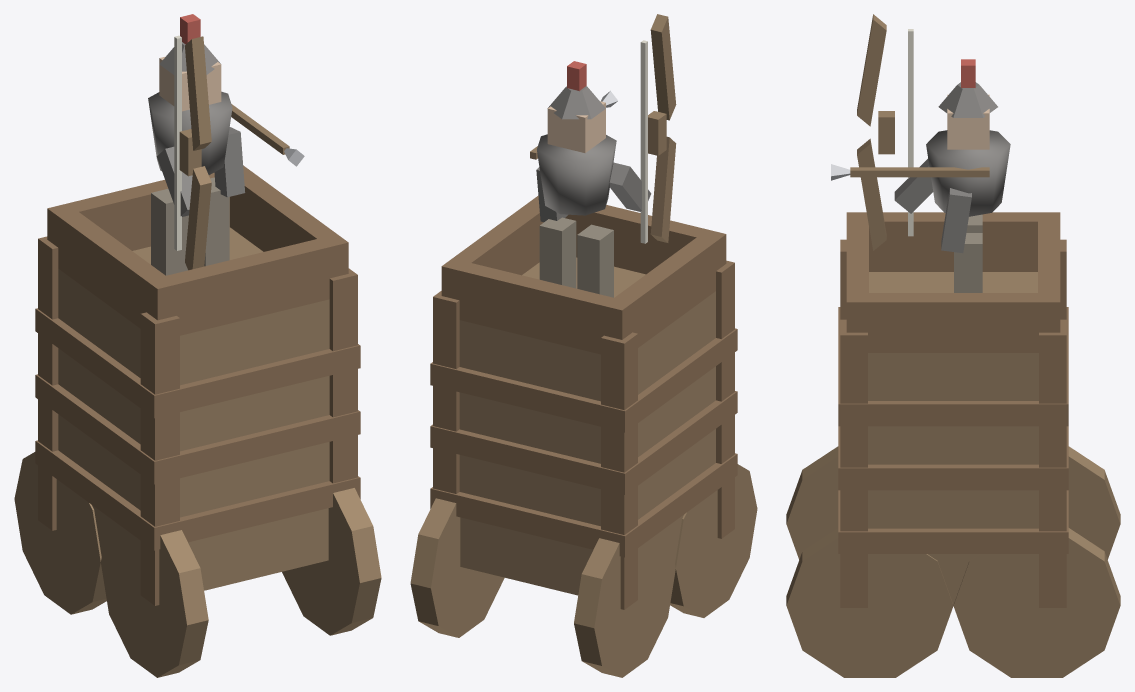
The model's file is troop-siege-tower.glb.
3 views of the same model, side by side, from view 1: azimuth 30°, elevation 25°; view 2: azimuth 150°, elevation 25°; view 3: azimuth 270°, elevation 25° (orthographic). The views are drawn at different scales.
Parts seen in each view (by area): view 1: body, parapet_1, wheel_fl, belt_2, belt_1, wheel_bl, wheel_fr, belt_0, post_-1_-1, parapet_3, parapet_2, post_1_-1 (+14 smaller); view 2: body, parapet_0, wheel_bl, belt_1, belt_2, wheel_fl, wheel_br, belt_0, post_-1_1, parapet_3, tower_archer, parapet_1 (+13 smaller); view 3: body, wheel_br, wheel_fr, parapet_2, parapet_3, belt_2, belt_1, belt_0, post_1_-1, post_1_1, tower_archer, wheel_bl (+15 smaller).
Boxes of the visible parts, x1,y1,x2,y2 form: body: [58, 227, 329, 590]; parapet_1: [146, 239, 348, 335]; wheel_fl: [100, 520, 208, 677]; belt_2: [35, 308, 360, 418]; belt_1: [35, 374, 360, 484]; wheel_bl: [14, 452, 106, 614]; wheel_fr: [282, 488, 381, 635]; belt_0: [35, 440, 360, 550]; post_-1_-1: [140, 312, 179, 605]; parapet_3: [50, 208, 177, 328]; parapet_2: [230, 166, 348, 274]; post_1_-1: [329, 268, 357, 483]; body: [459, 257, 715, 595]; parapet_0: [442, 262, 632, 354]; wheel_bl: [574, 529, 675, 677]; belt_1: [430, 391, 737, 494]; belt_2: [430, 328, 737, 432]; wheel_fl: [670, 464, 757, 617]; wheel_br: [410, 498, 504, 637]; belt_0: [430, 453, 737, 557]; post_-1_1: [601, 332, 637, 609]; parapet_3: [604, 235, 724, 347]; tower_archer: [537, 134, 616, 215]; parapet_1: [565, 205, 726, 274]; body: [868, 272, 1038, 604]; wheel_br: [953, 528, 1120, 677]; wheel_fr: [786, 528, 953, 677]; parapet_2: [846, 293, 1060, 352]; parapet_3: [846, 212, 1060, 271]; belt_2: [838, 307, 1068, 426]; belt_1: [838, 426, 1068, 490]; belt_0: [838, 490, 1068, 553]; post_1_-1: [840, 323, 867, 607]; post_1_1: [1039, 323, 1066, 607]; tower_archer: [926, 130, 1010, 216]; wheel_bl: [1068, 446, 1120, 559].
Size of the model in its own units: 0.124 by 0.3541 by 0.18.
